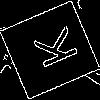K: (24, 25, 79, 75)
